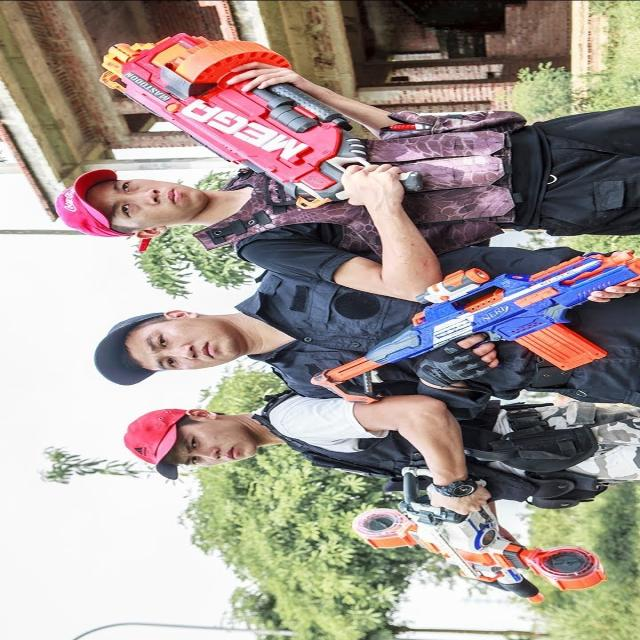Nerf gun: (84, 29, 446, 212), (304, 247, 638, 407), (346, 476, 604, 612)
